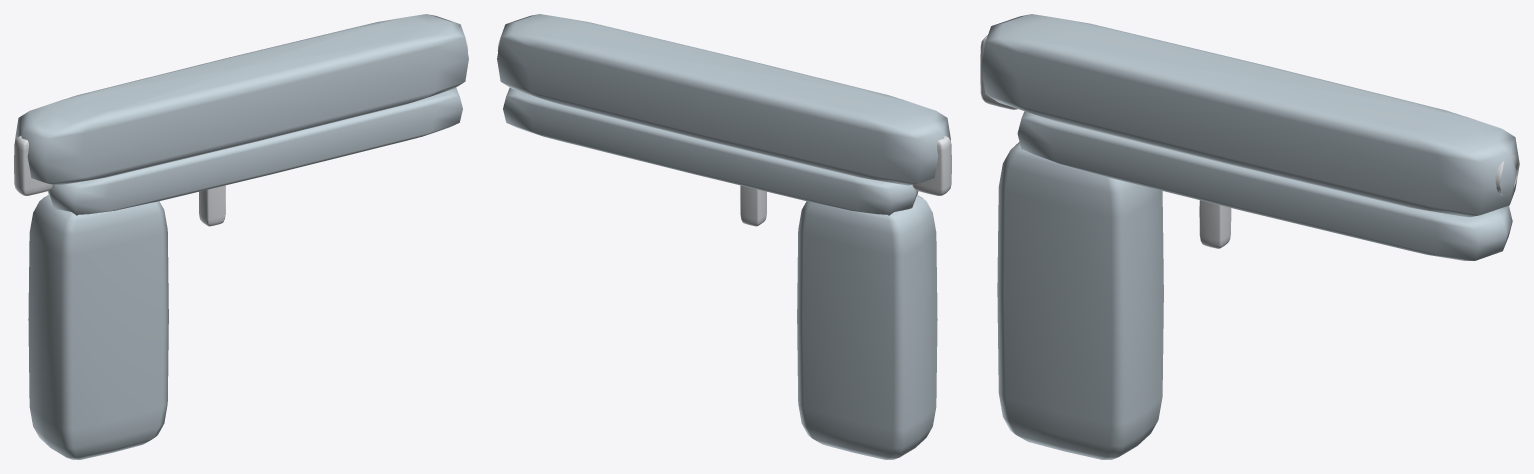
Rendered from fort17-gls.glb.
3 views of the same model, side by side, from view 1: azimuth 30°, elevation 25°; view 2: azimuth 150°, elevation 25°; view 3: azimuth 330°, elevation 25° (orthographic). The views are drawn at different scales.
Parts seen in each view (by area): view 1: slide_steel, grip_polymer, frame_polymer, hammer, trigger; view 2: slide_steel, grip_polymer, frame_polymer, hammer, trigger; view 3: slide_steel, grip_polymer, frame_polymer, trigger.
Part boxes in pixels (<box>): slide_steel: <box>15,14,468,185</box>; grip_polymer: <box>28,195,168,459</box>; frame_polymer: <box>47,88,462,215</box>; hammer: <box>14,136,53,195</box>; trigger: <box>199,185,225,226</box>; slide_steel: <box>497,14,950,185</box>; grip_polymer: <box>797,195,937,459</box>; frame_polymer: <box>503,88,918,215</box>; hammer: <box>912,136,951,195</box>; trigger: <box>740,185,766,226</box>; slide_steel: <box>981,14,1519,217</box>; grip_polymer: <box>997,142,1163,459</box>; frame_polymer: <box>1017,111,1512,260</box>; trigger: <box>1199,200,1231,248</box>.
Bounding box in the file's own units: 0.181 × 0.1325 × 0.028.
